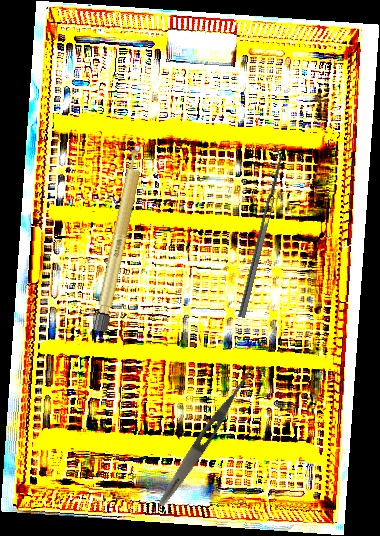Dressing Forceps: (154, 361, 259, 510)
Scalpel Handle: (92, 143, 148, 333)
Spatula Surgical: (231, 145, 287, 319)
